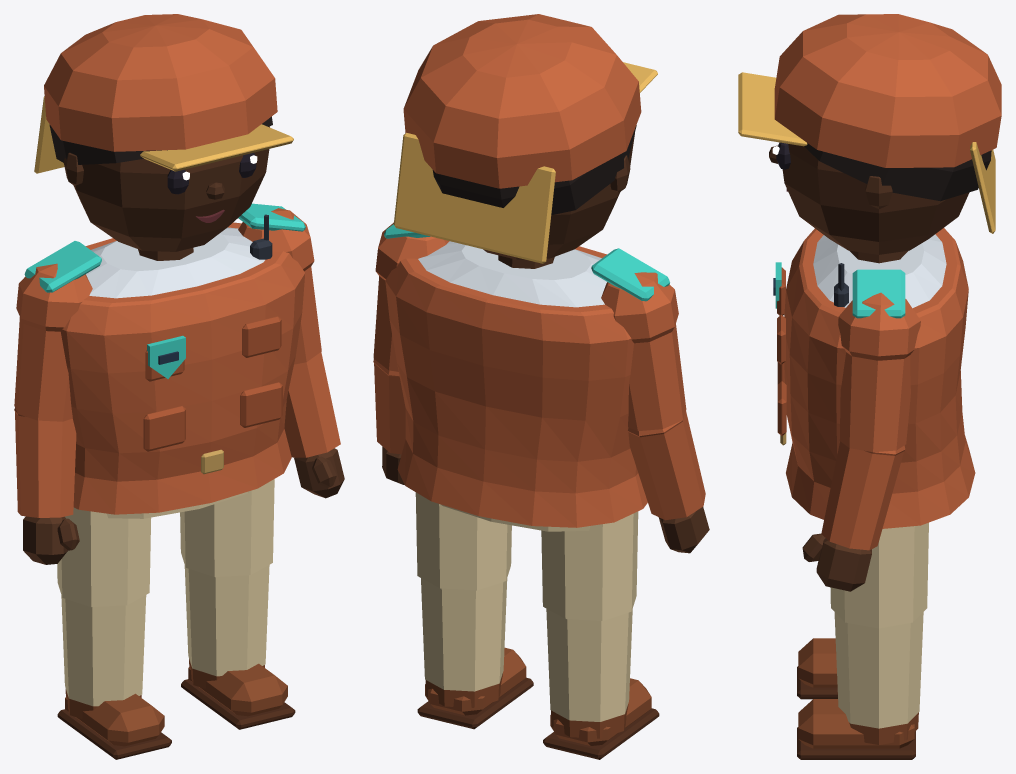
The model's file is sic_dun.glb.
3 views of the same model, side by side, from view 1: azimuth 30°, elevation 25°; view 2: azimuth 150°, elevation 25°; view 3: azimuth 270°, elevation 25° (orthographic).
Parts seen in each view (by area): view 1: jacke, kopfbedeckung, bein_r, bein_l, arm_r, kopf, arm_l, torso, taschen, schuh_r, schuh_l, schulterklappen (+6 smaller); view 2: jacke, kopfbedeckung, bein_r, bein_l, arm_r, torso, arm_l, schuh_l, schuh_r, haare, kopf, schulterklappen (+1 smaller); view 3: kopfbedeckung, jacke, arm_l, bein_l, kopf, schuh_l, torso, haare, hand_l, schuh_r, schulterklappen, taschen (+2 smaller).
Boxes of the visible parts, x1=… form: jacke: x1=61, y1=222, x2=305, y2=514; kopfbedeckung: x1=34, y1=14, x2=293, y2=173; bein_r: x1=57, y1=507, x2=151, y2=706; bein_l: x1=180, y1=479, x2=274, y2=676; arm_r: x1=14, y1=263, x2=92, y2=517; kopf: x1=63, y1=126, x2=269, y2=251; arm_l: x1=238, y1=208, x2=340, y2=457; torso: x1=86, y1=227, x2=264, y2=298; taschen: x1=143, y1=316, x2=282, y2=451; schuh_r: x1=57, y1=689, x2=171, y2=759; schuh_l: x1=181, y1=659, x2=295, y2=729; schulterklappen: x1=24, y1=203, x2=305, y2=292; jacke: x1=385, y1=246, x2=647, y2=527; kopfbedeckung: x1=393, y1=14, x2=657, y2=263; bein_r: x1=541, y1=511, x2=638, y2=721; bein_l: x1=415, y1=492, x2=511, y2=691; arm_r: x1=601, y1=272, x2=705, y2=520; torso: x1=418, y1=241, x2=606, y2=307; arm_l: x1=373, y1=222, x2=449, y2=454; schuh_l: x1=417, y1=647, x2=533, y2=729; schuh_r: x1=543, y1=678, x2=659, y2=759; haare: x1=432, y1=125, x2=636, y2=215; kopf: x1=483, y1=133, x2=634, y2=259; schulterklappen: x1=384, y1=224, x2=669, y2=301; kopfbedeckung: x1=738, y1=14, x2=1001, y2=233; jacke: x1=784, y1=228, x2=975, y2=528; arm_l: x1=821, y1=292, x2=920, y2=550; bein_l: x1=830, y1=522, x2=928, y2=728; kopf: x1=782, y1=144, x2=969, y2=254; schuh_l: x1=797, y1=699, x2=918, y2=759; torso: x1=813, y1=234, x2=946, y2=308; haare: x1=804, y1=143, x2=991, y2=201; hand_l: x1=802, y1=533, x2=871, y2=591; schuh_r: x1=797, y1=638, x2=837, y2=699; schulterklappen: x1=852, y1=269, x2=905, y2=318; taschen: x1=777, y1=267, x2=786, y2=435.
Bounding box in the file's own units: 0.0127 × 0.0259 × 0.00901.
